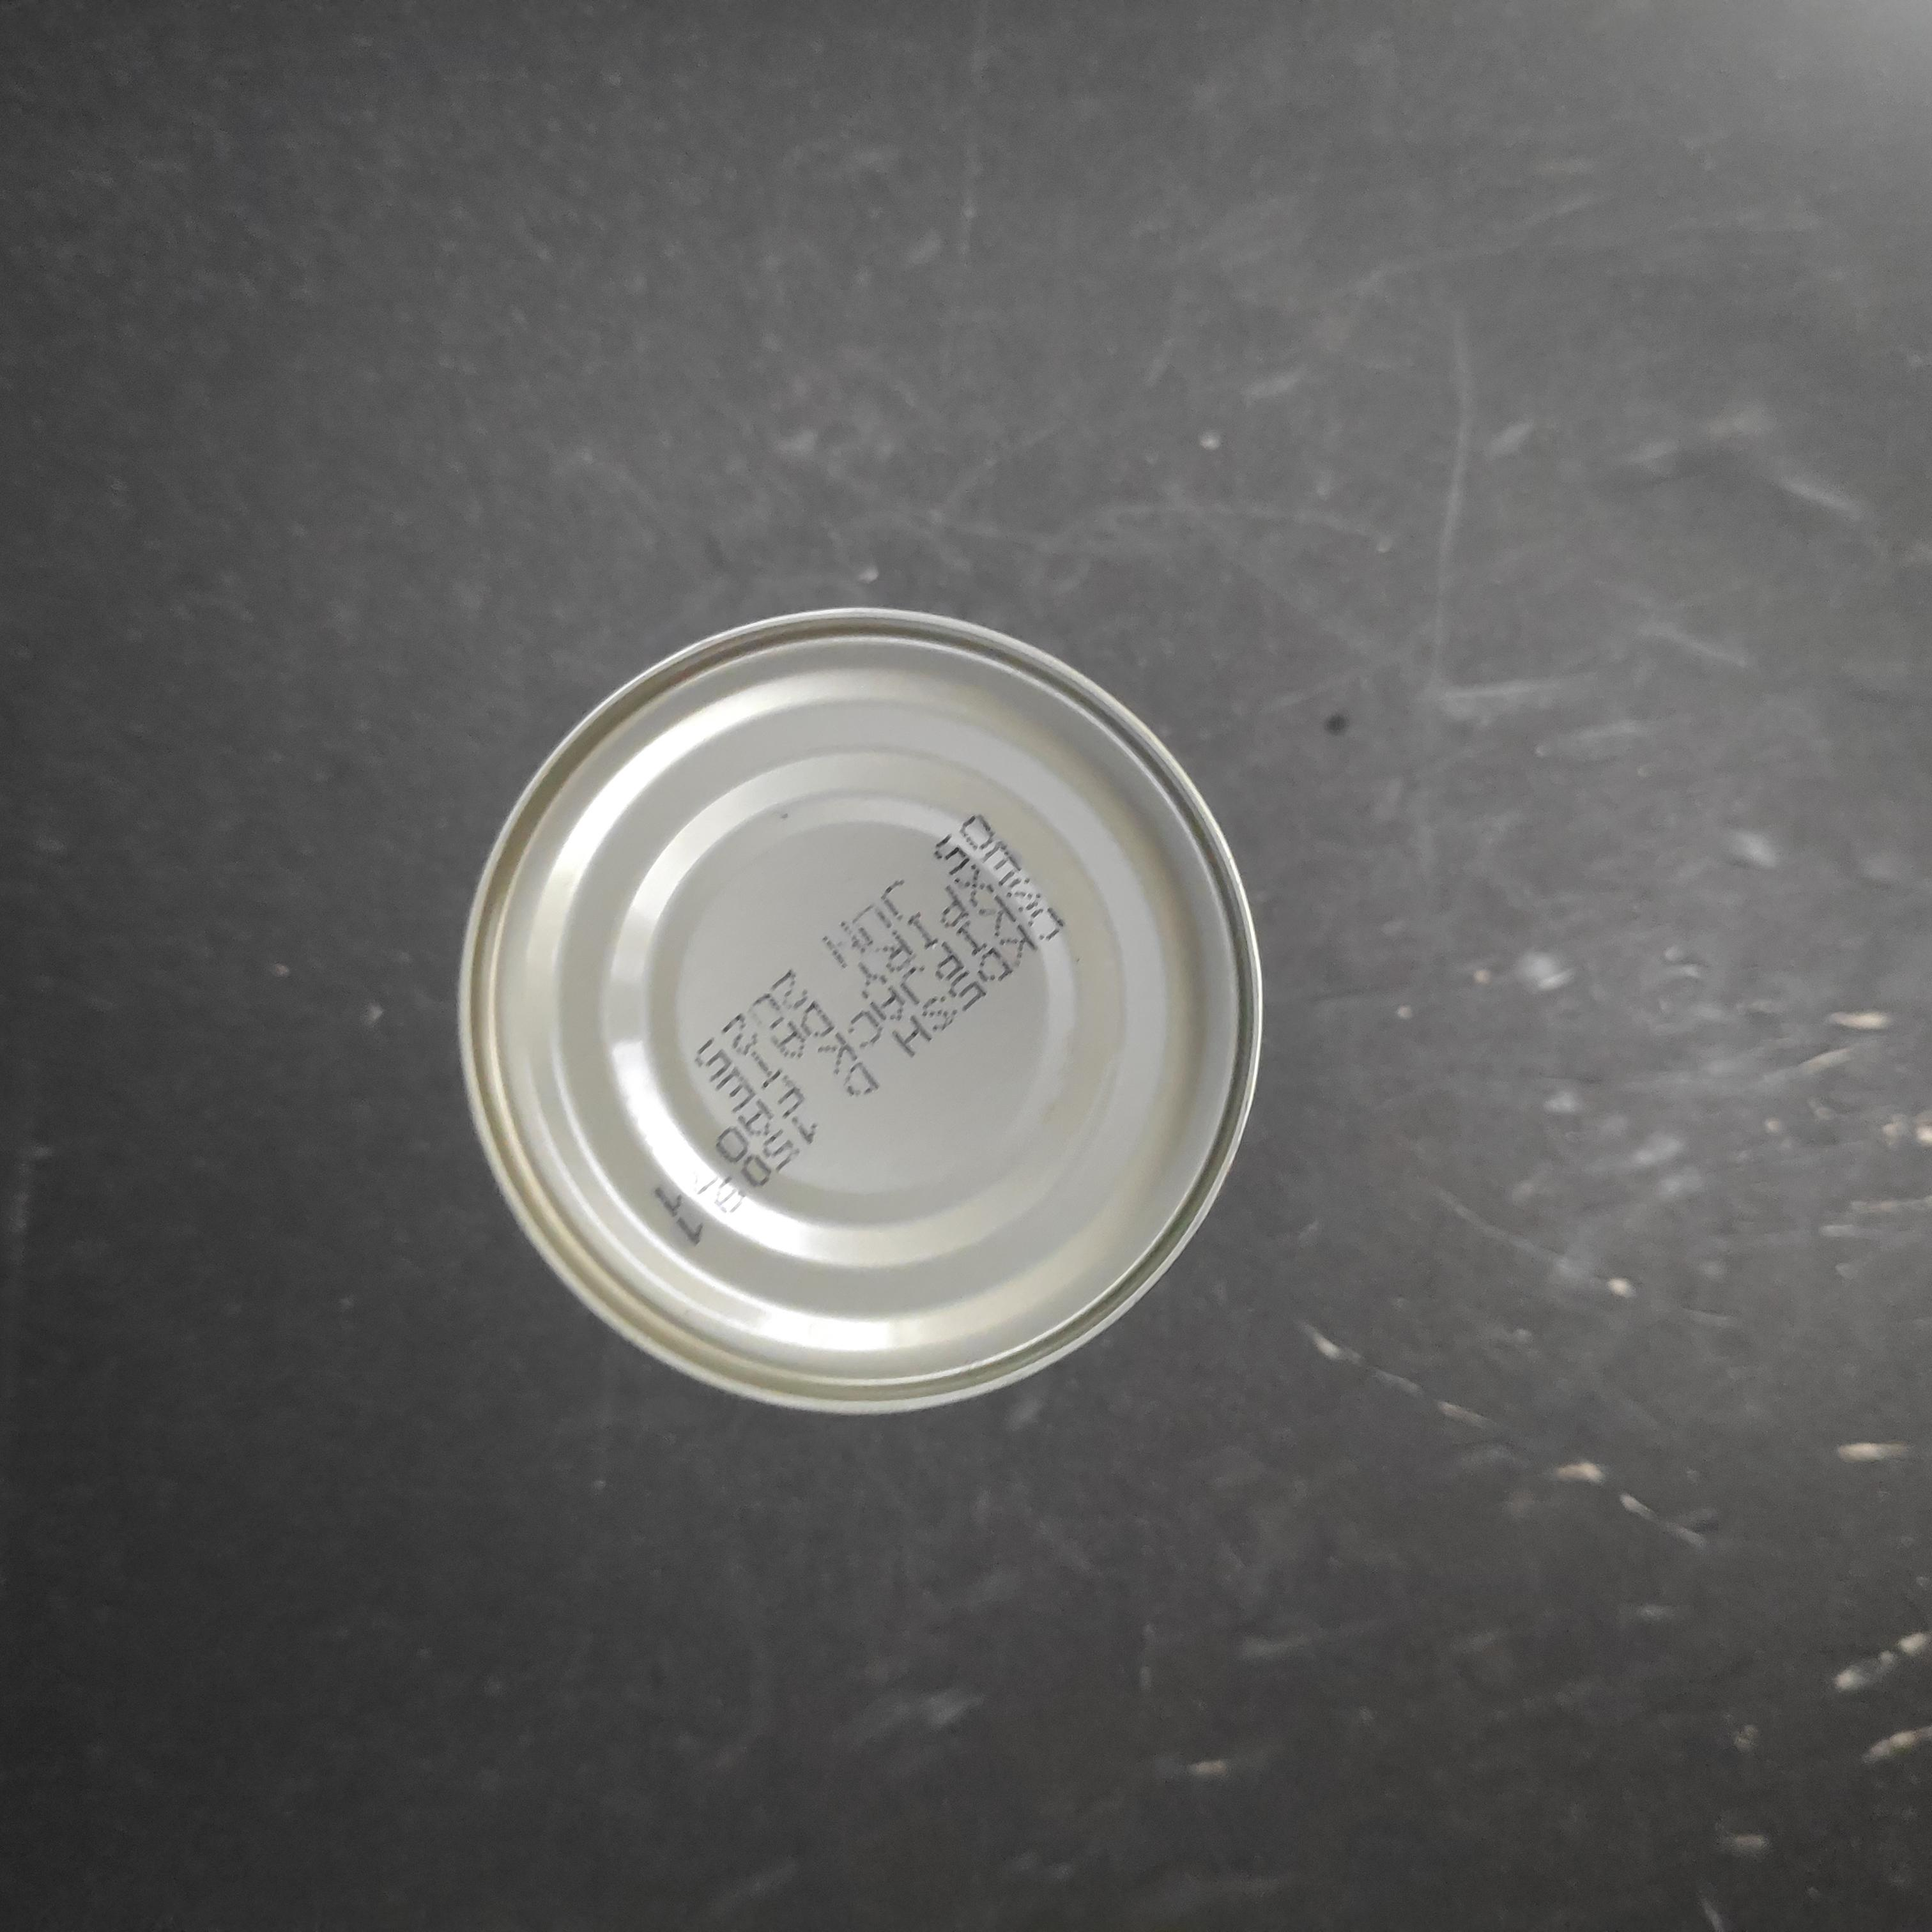No defect: (656, 495, 1486, 1339)
